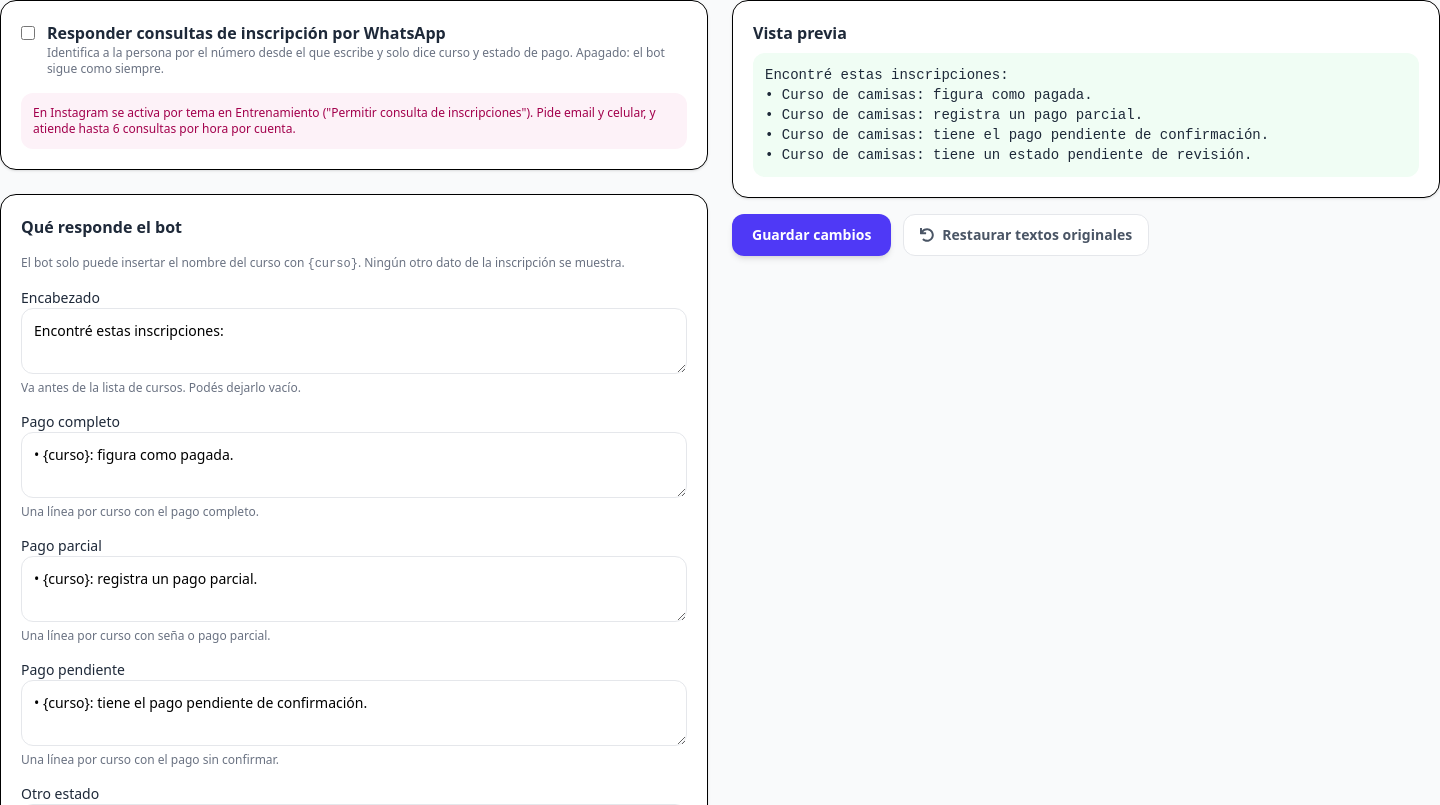
Scenario: EnrollmentTab › keeps the edits and shows an error when saving fails
Click the checkbox labelled "Responder consultas de inscripción por WhatsApp" at x=28, y=33, box left=21, top=25, right=35, bottom=41
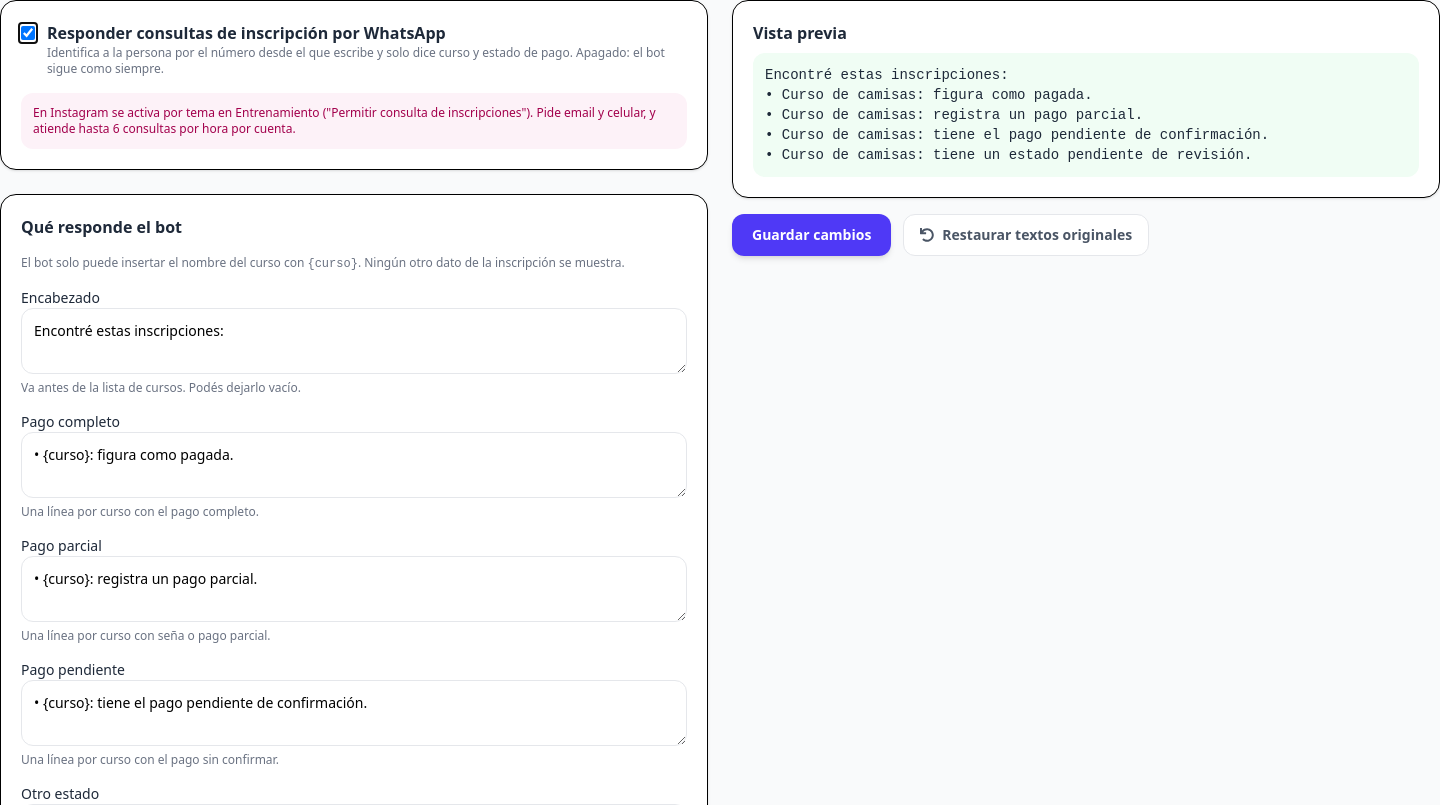
Click the button "Guardar cambios" at x=812, y=235, box left=732, top=214, right=891, bottom=256
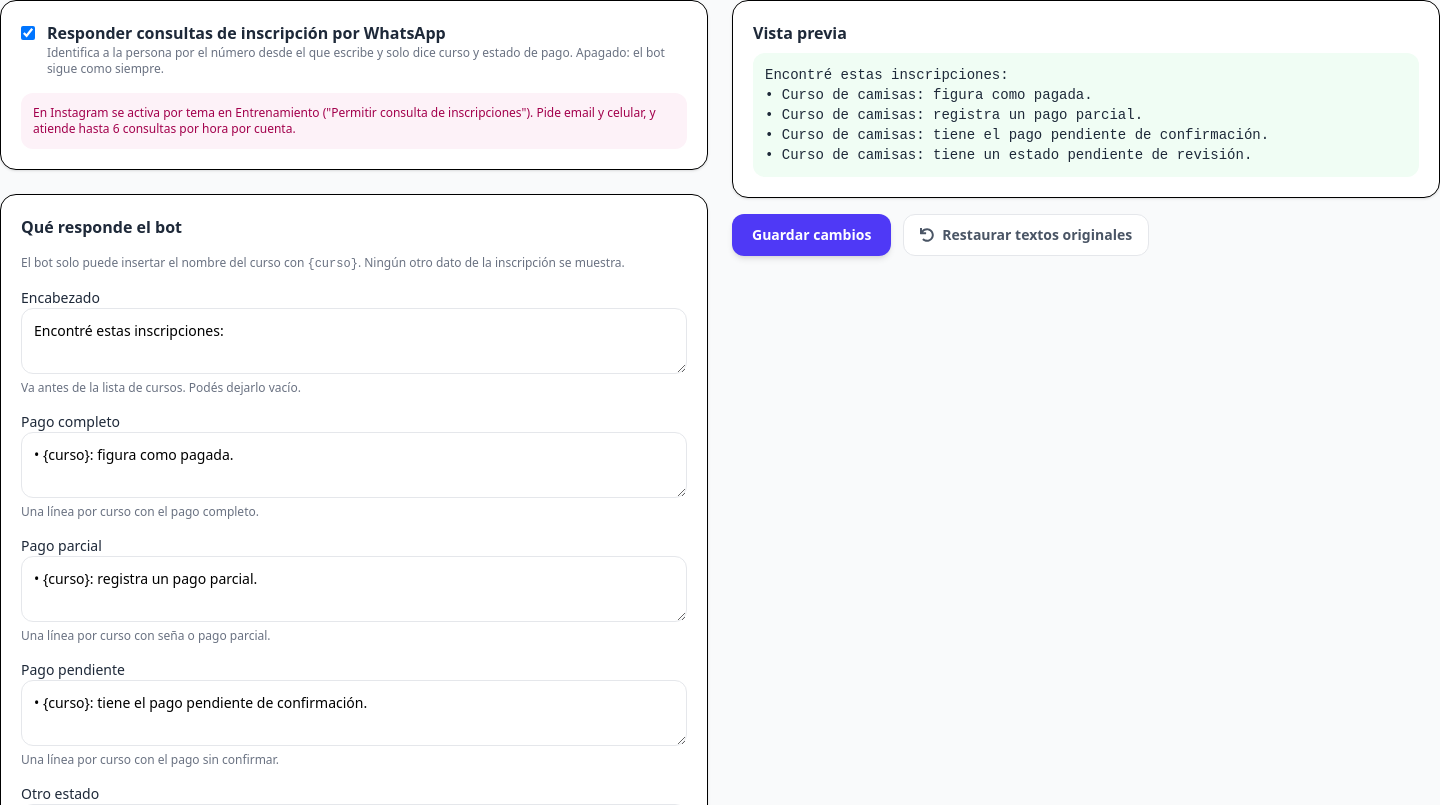
Check: the checkbox labelled "Responder consultas de inscripción por WhatsApp" is checked, box left=21, top=25, right=35, bottom=41
